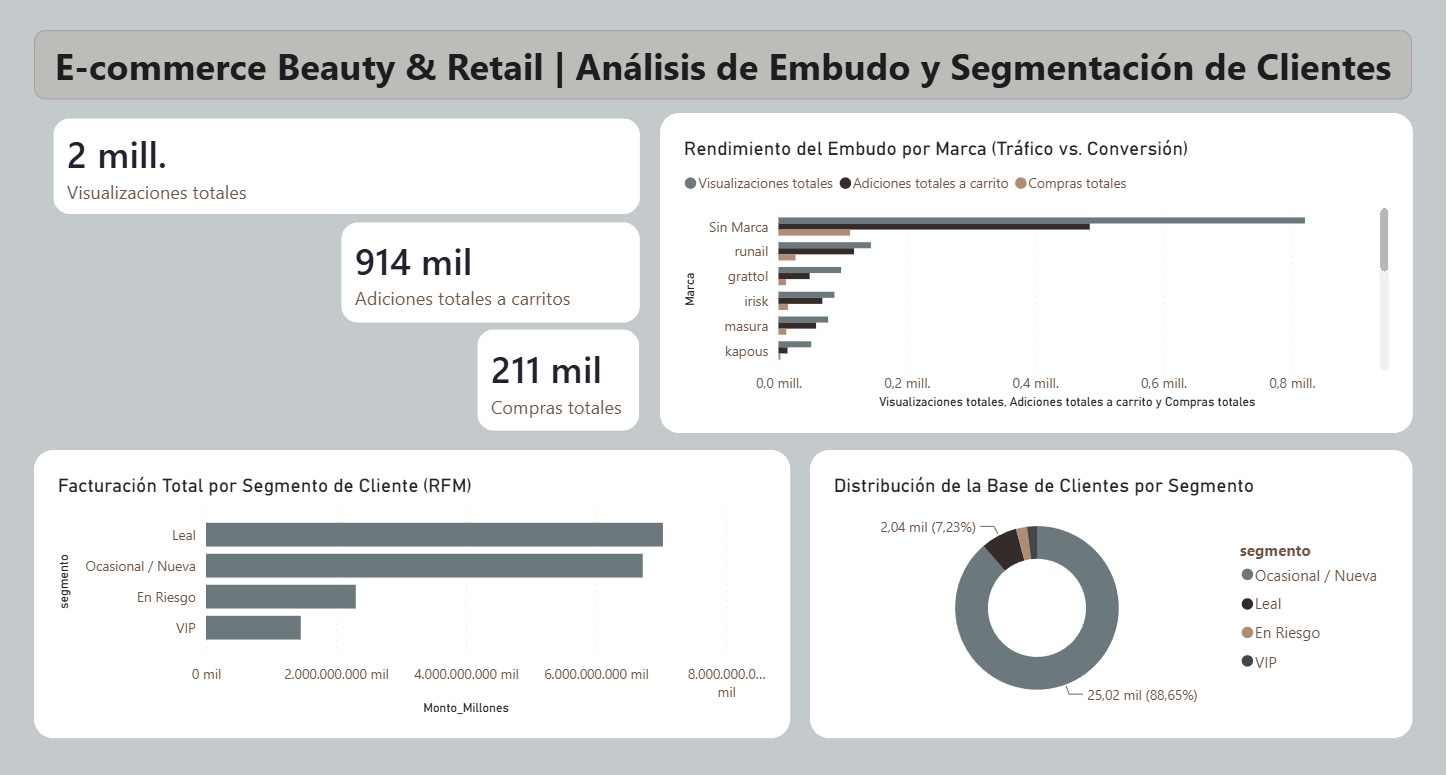

Layout of this report page (visuals, bound fields, positions):
{"tool":"powerbi","page":{"name":"Página 1","canvas":[1280,720],"ordinal":0},"visuals":[{"type":"cardVisual","fields":{"Data":["Sum(funnel_por_marca.purchase)"]},"box":[407.8,277.9,176.6,123.4],"z":0},{"type":"clusteredBarChart","title":"Rendimiento del Embudo por Marca (Tráfico vs. Conversión)","fields":{"Category":["funnel_por_marca.brand"],"Y":["Sum(funnel_por_marca.view)","Sum(funnel_por_marca.cart)","Sum(funnel_por_marca.purchase)"]},"box":[584.4,105.2,661,280.5],"z":1000},{"type":"donutChart","title":"Distribución de la Base de Clientes por Segmento","fields":{"Category":["segmentacion_rfm.segmento"],"Y":["Count(segmentacion_rfm.user_id)"]},"box":[716.9,401.3,528.6,253.2],"z":2000},{"type":"clusteredBarChart","title":"Facturación Total por Segmento de Cliente (RFM)","fields":{"Category":["segmentacion_rfm.segmento"],"Y":["segmentacion_rfm.Monto_Millones"]},"box":[35.1,401.3,663.6,253.2],"z":3000},{"type":"cardVisual","fields":{"Data":["Sum(funnel_por_marca.view)"]},"box":[35.1,93.5,549.4,118.2],"z":4000},{"type":"cardVisual","fields":{"Data":["Sum(funnel_por_marca.cart)"]},"box":[288.3,184.4,296.1,122.1],"z":5000},{"type":"textbox","box":[35.1,32.5,1210.4,61],"z":6000}]}

Visuals, with their boxes on the page's 1280x720 design canvas (x1, y1, x2, y2). These are canvas units, not pixel positions in the 1448x775 screenshot, which may show the page scaled, cropped or inside an application window:
cardVisual - Sum(funnel_por_marca.purchase): box(408, 278, 584, 401)
"Rendimiento del Embudo por Marca (Tráfico vs. Conversión)" clusteredBarChart: box(584, 105, 1245, 386)
"Distribución de la Base de Clientes por Segmento" donutChart: box(717, 401, 1246, 654)
"Facturación Total por Segmento de Cliente (RFM)" clusteredBarChart: box(35, 401, 699, 654)
cardVisual - Sum(funnel_por_marca.view): box(35, 94, 584, 212)
cardVisual - Sum(funnel_por_marca.cart): box(288, 184, 584, 306)
textbox: box(35, 32, 1246, 94)
